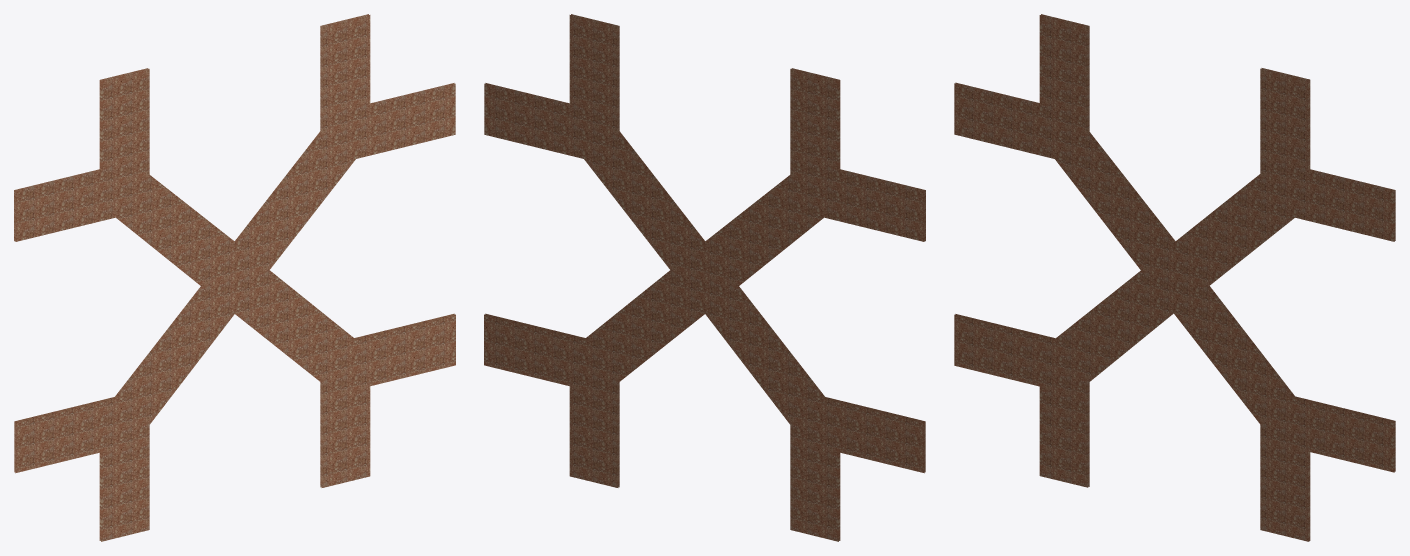
File: floor_1.obj
The picture shows the model from 3 angles, left to right: view 1: azimuth 30°, elevation 25°; view 2: azimuth 150°, elevation 25°; view 3: azimuth 330°, elevation 25°; orthographic projection.
Parts seen in each view (by area): view 1: floor_1; view 2: floor_1; view 3: floor_1.
Part boxes in pixels (x1,y1,x2,y2): floor_1: (14, 14, 455, 541); floor_1: (484, 14, 925, 541); floor_1: (954, 14, 1395, 541).
Bounding box in the file's own units: 22.56 × 22.59 × 0.1.
